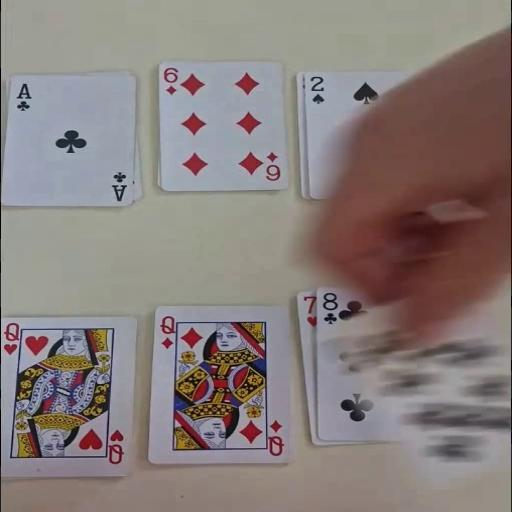2: (308, 74, 326, 104)
6: (262, 150, 282, 182), (160, 65, 180, 96)
8: (322, 290, 340, 324)
A: (108, 169, 128, 202), (12, 81, 32, 112)
Q: (104, 427, 126, 465), (264, 418, 285, 457), (2, 320, 21, 357), (158, 313, 176, 350)
